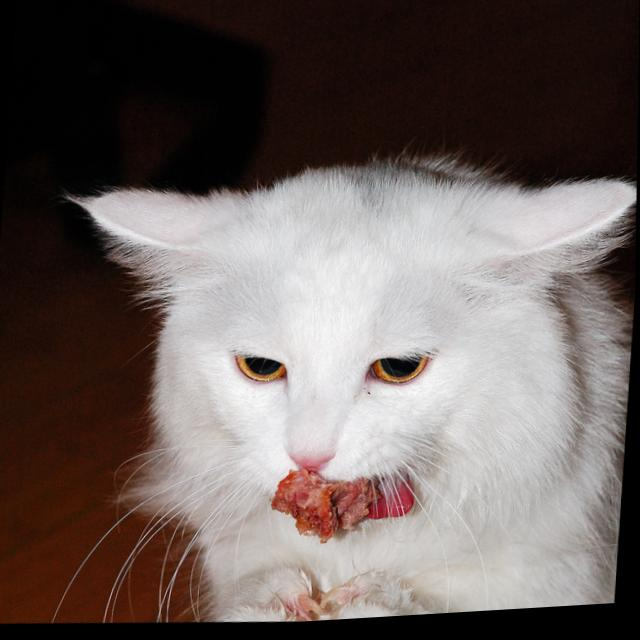animals: (70, 168, 638, 502)
